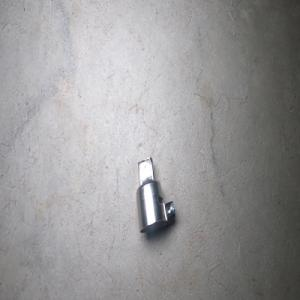MetalPart: (135, 156, 175, 233)
